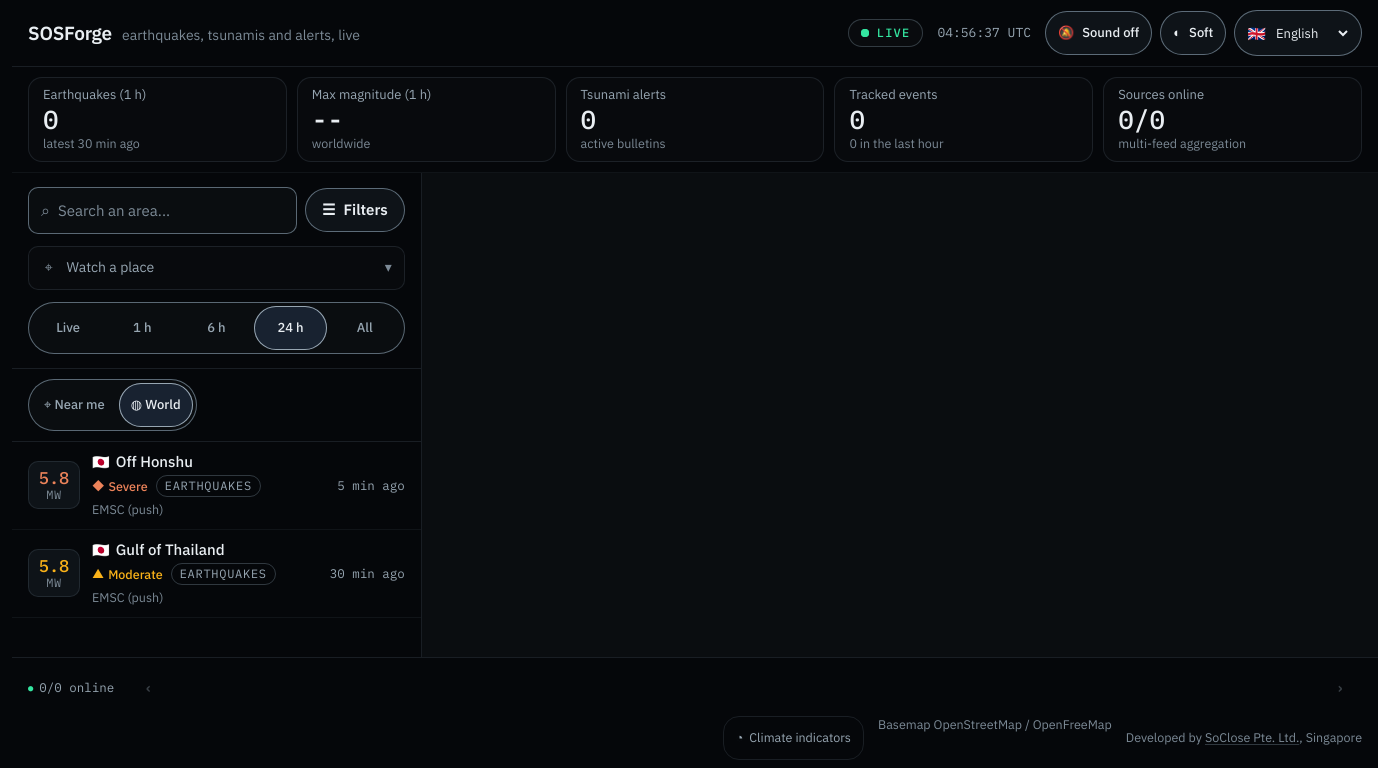
picking a place from the search › clears the text filter and scopes the feed to the place, named in the scope bar
Type "koh samui" into the dropdown labelled "Search an area...".
click(174, 210); type("koh samui")  # box left=58, top=188, right=290, bottom=233
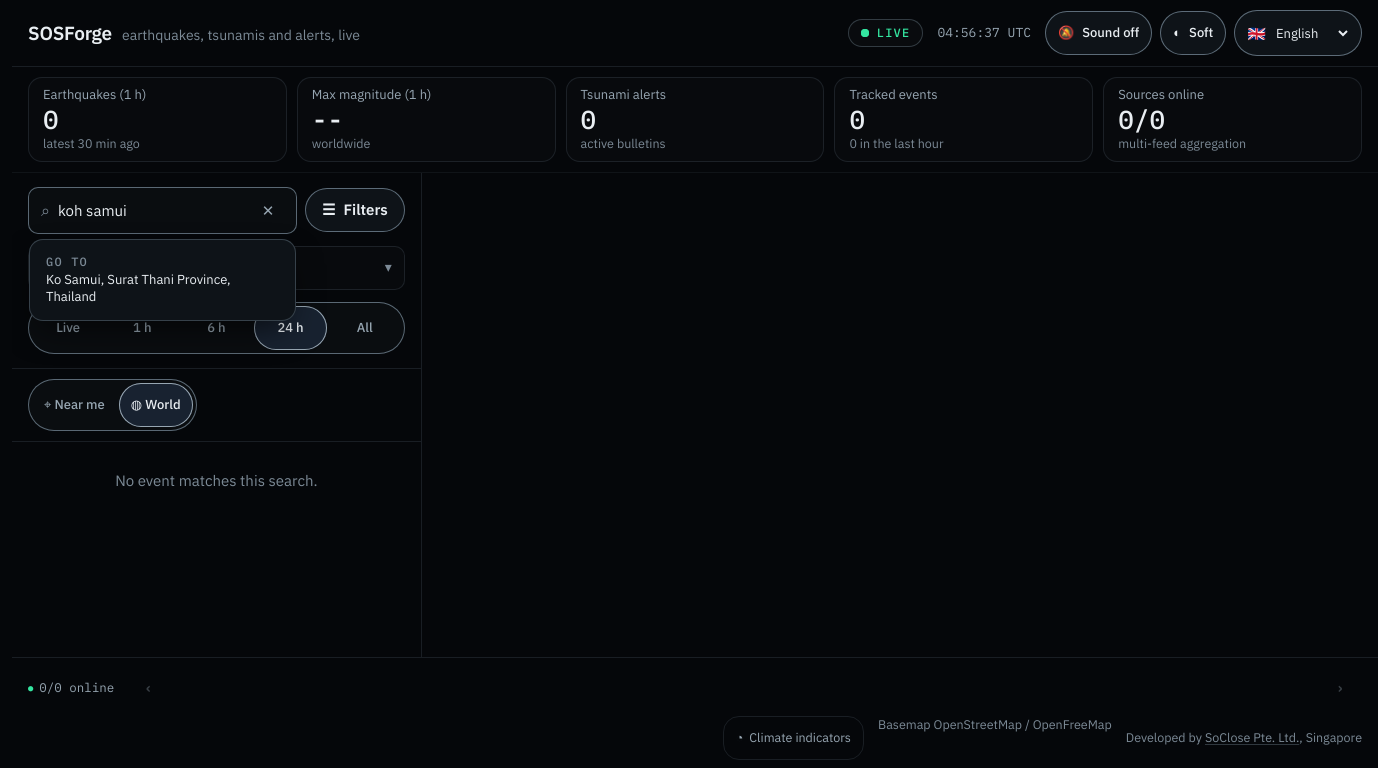
expect the list is shown: met, box left=29, top=239, right=296, bottom=321
Press Enter in the dropdown named "Search an area...", box left=58, top=188, right=238, bottom=233
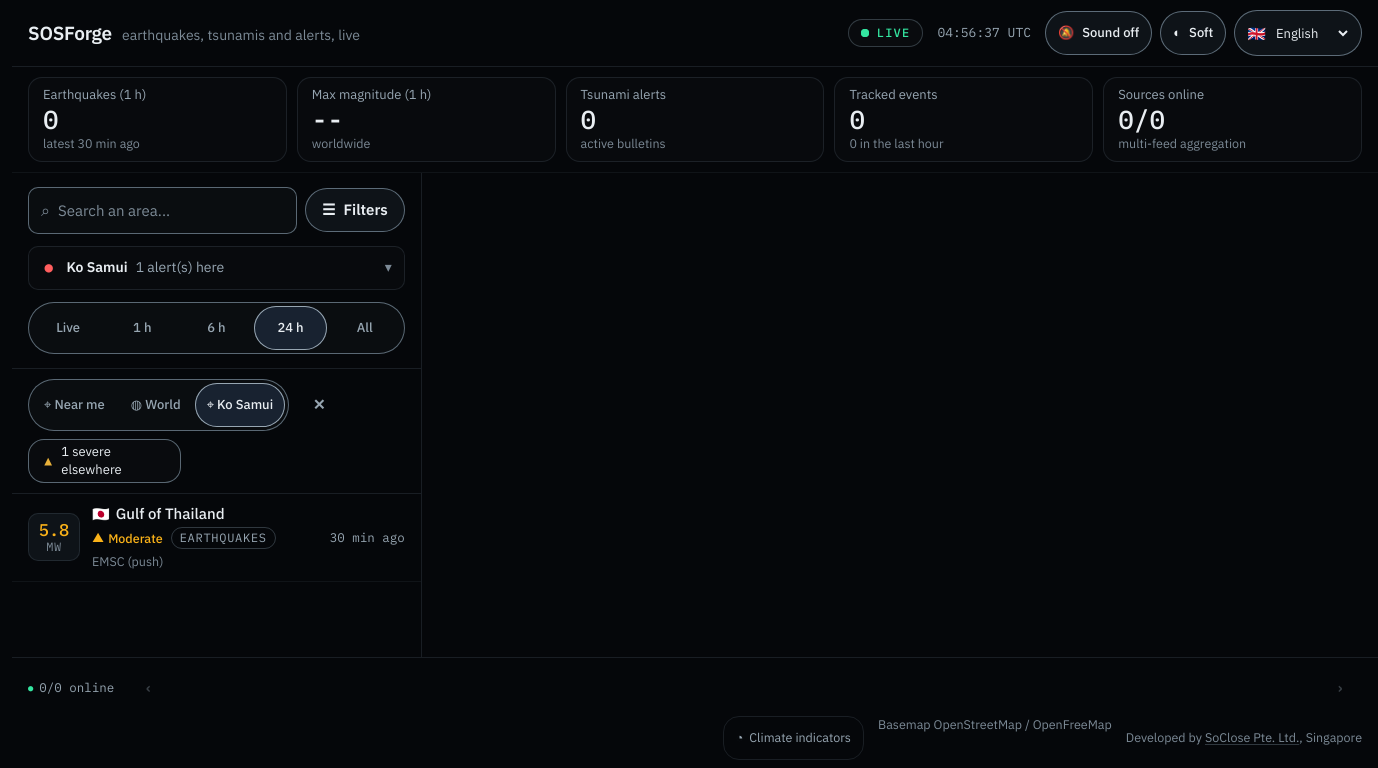
expect the dropdown labelled "Search an area..." is empty: met, box left=58, top=188, right=290, bottom=233
expect the text "No event matches this search." is gone: met
expect the button "⌖ Ko Samui" is shown: met, box left=195, top=383, right=285, bottom=427
